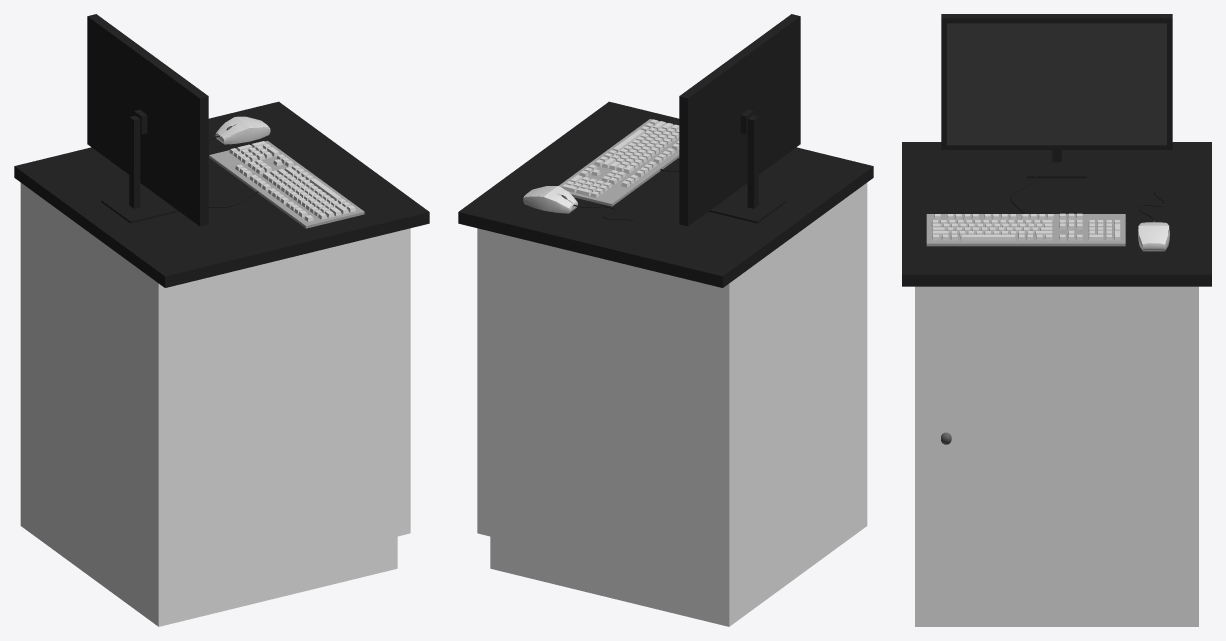
File: printer_monitor.fbx
3 renders of one model, left to right at view 1: azimuth 30°, elevation 25°; view 2: azimuth 150°, elevation 25°; view 3: azimuth 270°, elevation 25°, orthographic. The views are drawn at different scales.
Visible parts, largest first — view 1: Cube, Cube.003, key.018, BézierCurve; view 2: Cube, Cube.003, key.018, BézierCurve; view 3: Cube, Cube.003, key.018, BézierCurve.
Part boxes in pixels (bbox=[...]): Cube: bbox=[14, 101, 429, 626]; Cube.003: bbox=[87, 14, 208, 226]; key.018: bbox=[208, 141, 364, 228]; BézierCurve: bbox=[208, 116, 270, 144]; Cube: bbox=[458, 101, 873, 626]; Cube.003: bbox=[679, 14, 800, 226]; key.018: bbox=[559, 119, 679, 206]; BézierCurve: bbox=[523, 186, 634, 220]; Cube: bbox=[902, 142, 1211, 626]; Cube.003: bbox=[941, 14, 1172, 178]; key.018: bbox=[926, 176, 1125, 246]; BézierCurve: bbox=[1138, 192, 1169, 251].
Bounding box in the file's own units: 432 × 790 × 427.
Materials: 4 (4 with a texture image).
